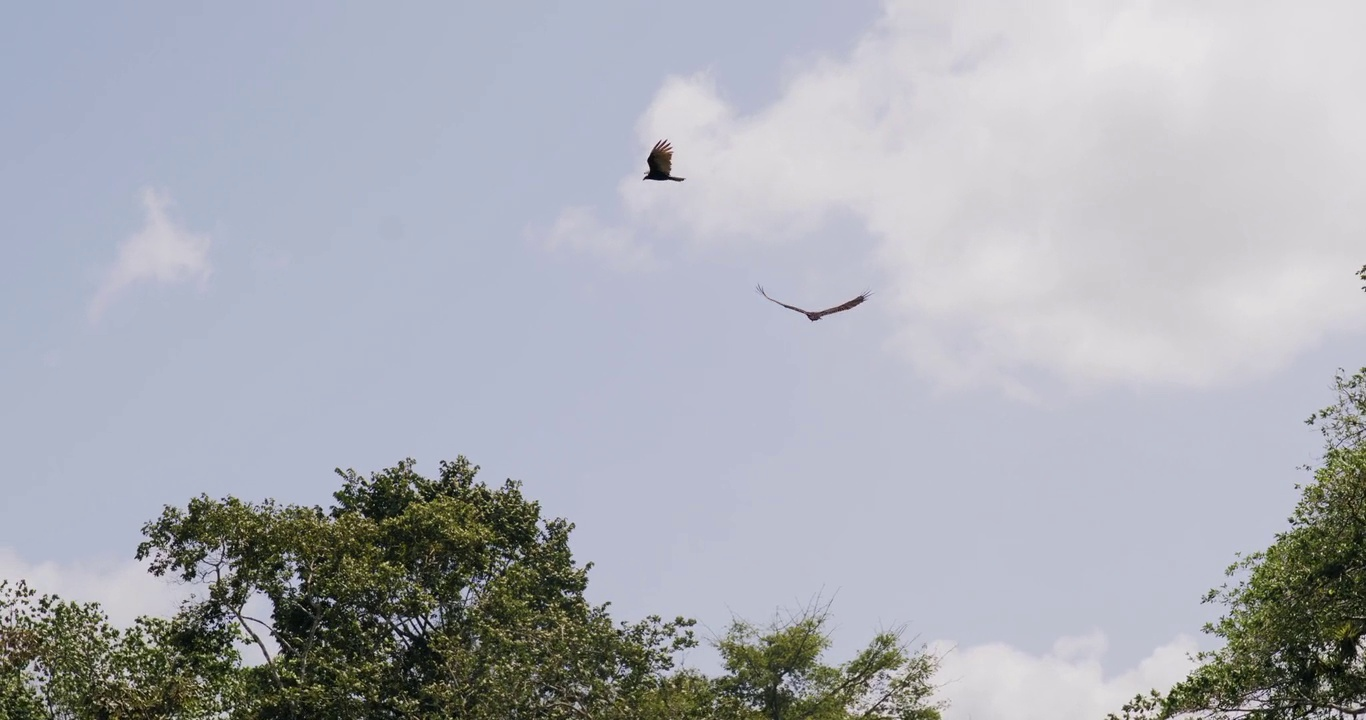bird: (755, 285, 869, 321), (642, 140, 687, 181)
